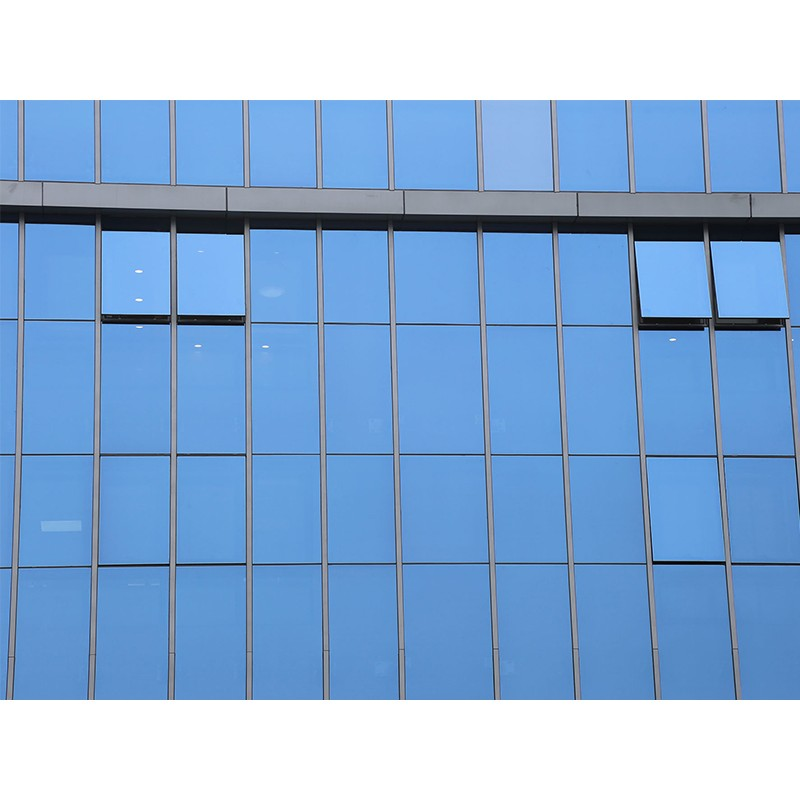glass panel: (404, 565, 492, 699), (397, 326, 483, 453), (654, 565, 733, 699), (497, 565, 574, 699), (575, 566, 653, 698), (14, 568, 90, 699), (95, 567, 168, 699), (716, 330, 793, 454), (639, 330, 715, 454), (175, 566, 245, 698), (23, 322, 93, 453), (488, 326, 560, 453), (564, 328, 637, 453), (401, 456, 487, 561), (329, 566, 397, 698), (253, 566, 321, 698), (733, 566, 799, 699), (101, 324, 169, 453), (252, 324, 319, 452), (177, 326, 244, 452), (325, 326, 391, 452), (569, 456, 644, 562), (647, 458, 724, 560), (20, 456, 92, 565), (492, 456, 566, 561), (394, 231, 478, 323), (725, 458, 799, 561), (392, 100, 477, 189), (99, 457, 169, 563), (177, 457, 246, 563), (253, 455, 320, 562), (327, 455, 394, 562), (707, 100, 780, 191), (25, 224, 94, 319), (632, 100, 704, 191), (558, 233, 630, 324), (483, 232, 554, 323), (557, 101, 628, 191), (481, 100, 552, 190), (322, 230, 388, 321), (250, 230, 316, 321), (711, 241, 788, 317), (321, 100, 387, 187), (100, 100, 169, 183), (635, 241, 710, 317), (249, 100, 315, 186), (24, 100, 94, 181), (102, 230, 169, 314), (176, 100, 242, 185), (177, 234, 244, 315), (0, 320, 16, 453), (0, 222, 18, 318), (0, 455, 14, 567), (782, 100, 799, 191), (0, 100, 17, 180), (785, 234, 799, 325), (0, 568, 10, 685)
